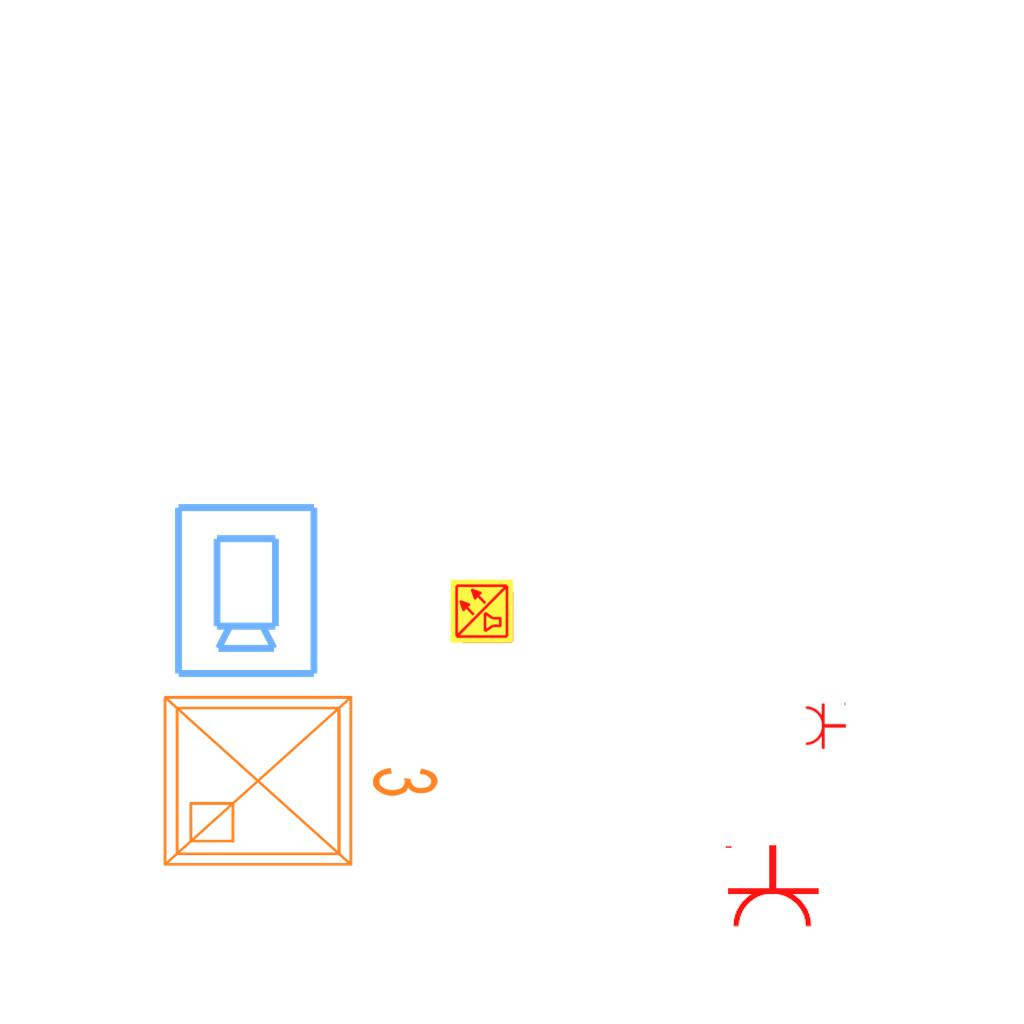Einbaudownlights_LED_Konferenzraeume: (149, 673, 449, 881)
KFO_Kamera_mit_Festobjektiv: (168, 499, 322, 681)
OKW_Multisensormelder_(Kombination_optischer_Rauch-Kahlenmonoxid_Waerme-Melder): (449, 578, 515, 644)
Schukosteckdose_einfach: (721, 843, 821, 930), (804, 700, 847, 750)
